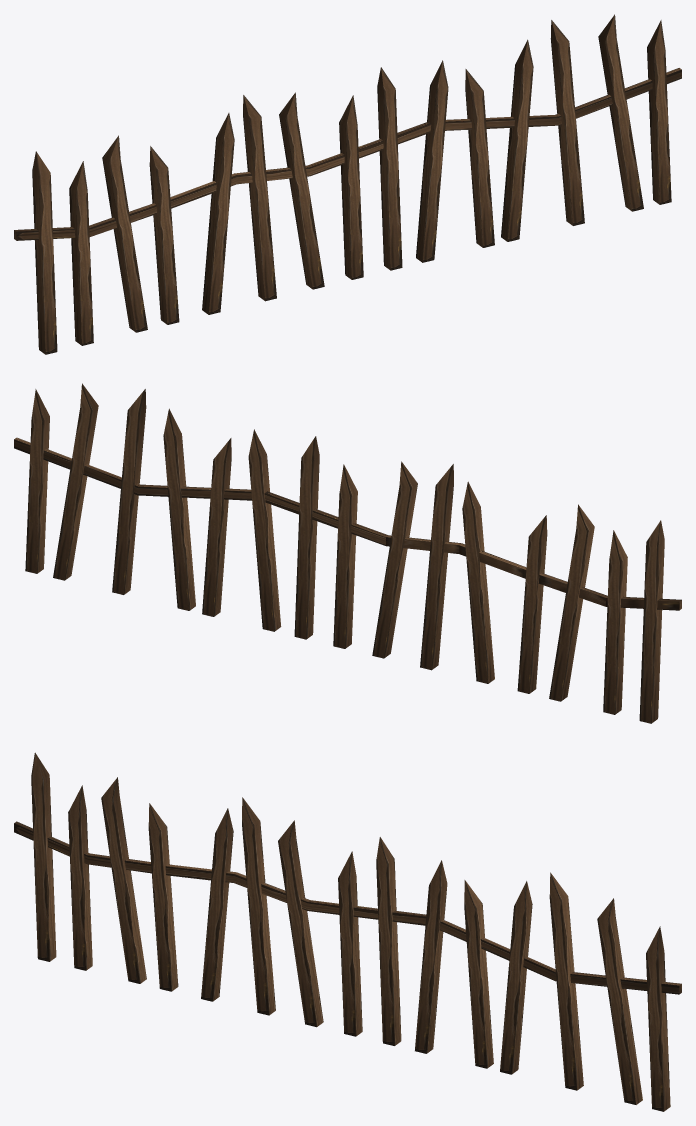
File: Fence_01.FBX
The picture shows the model from 3 angles, top to bottom: view 1: azimuth 30°, elevation 25°; view 2: azimuth 150°, elevation 25°; view 3: azimuth 330°, elevation 25°; orthographic projection.
Visible parts, largest first — view 1: Fence_01; view 2: Fence_01; view 3: Fence_01.
Part boxes in pixels (<box>): Fence_01: <box>14,14,681,354</box>; Fence_01: <box>14,383,681,723</box>; Fence_01: <box>14,752,681,1111</box>.
Size of the model in its own units: 3.38 by 0.0597 by 1.01.
